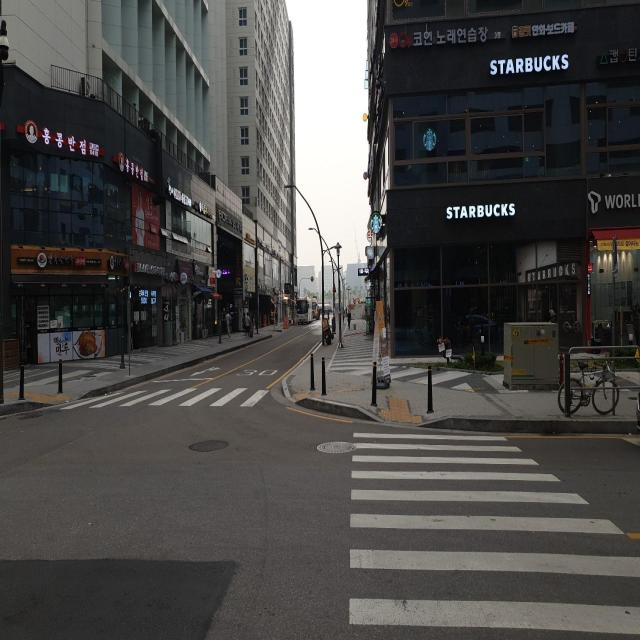횡단보도: (346, 427, 638, 637), (62, 381, 269, 408)
